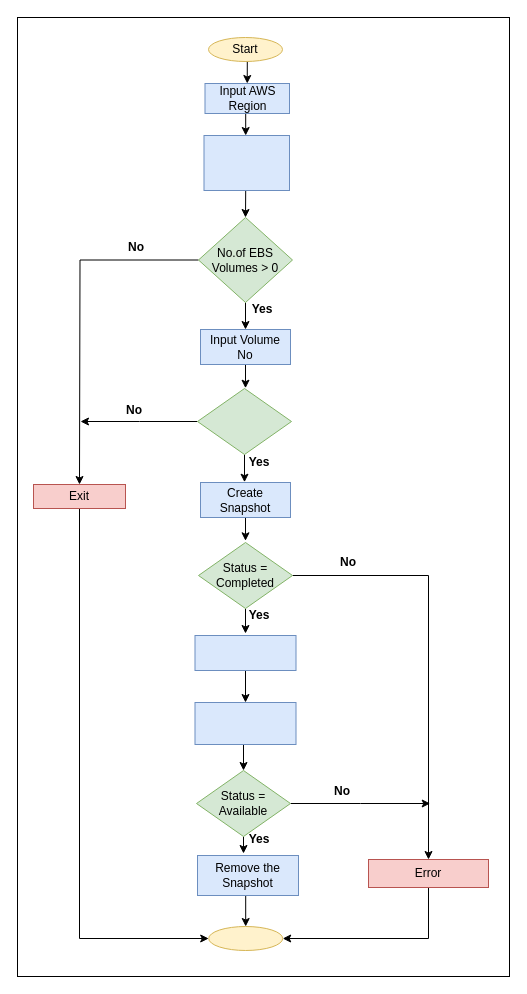
The diagram is 527 pixels wide and 994 high, and some of its shapes have lost their labels. The shapes that lost their labels are listed below. From the top down, each one's centre as x and y in pixels, then its label:
At point (246, 162): "List all EBS volume in the region".
At point (244, 421): "Volume No is valid".
At point (245, 652): "List all Availability Zone in the region".
At point (245, 723): "Create Encrypted Volume from Snapshot".
At point (245, 938): "End".
